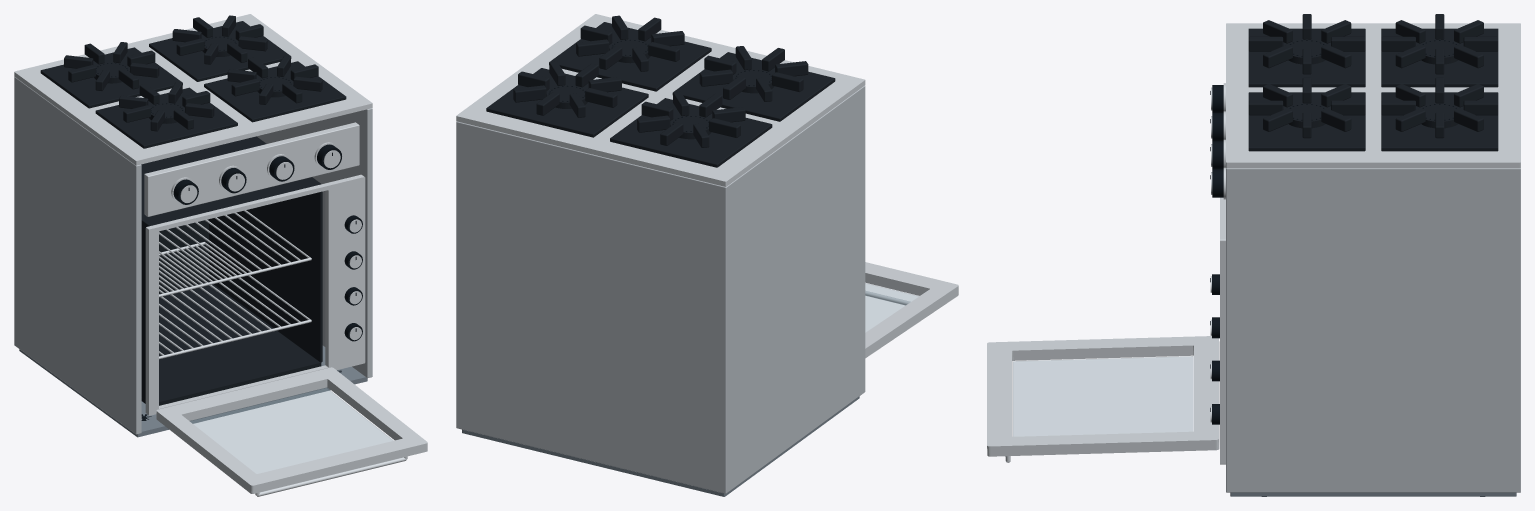
The model's file is cocina-semiindustrial-4-hornillas-horno-electrico-v1.glb.
3 views of the same model, side by side, from view 1: azimuth 30°, elevation 25°; view 2: azimuth 150°, elevation 25°; view 3: azimuth 270°, elevation 25° (orthographic). The views are drawn at different scales.
Visible parts, largest first — view 1: Cavidades_y_fundicion, Acero_pulido, Acero_satinado, Visor_vidrio, Mandos_y_goma, Interior_acero; view 2: Acero_satinado, Cavidades_y_fundicion, Acero_pulido, Interior_acero, Visor_vidrio; view 3: Acero_satinado, Acero_pulido, Cavidades_y_fundicion, Visor_vidrio, Mandos_y_goma, Interior_acero.
Part boxes in pixels (bbox=[...]): Cavidades_y_fundicion: bbox=[40, 15, 356, 405]; Acero_pulido: bbox=[14, 14, 427, 496]; Acero_satinado: bbox=[14, 77, 372, 434]; Visor_vidrio: bbox=[190, 388, 393, 473]; Mandos_y_goma: bbox=[96, 36, 362, 420]; Interior_acero: bbox=[19, 346, 367, 437]; Acero_satinado: bbox=[456, 85, 865, 493]; Cavidades_y_fundicion: bbox=[486, 15, 835, 167]; Acero_pulido: bbox=[456, 14, 958, 358]; Interior_acero: bbox=[462, 396, 859, 496]; Visor_vidrio: bbox=[865, 283, 918, 332]; Acero_satinado: bbox=[1226, 168, 1520, 492]; Acero_pulido: bbox=[987, 23, 1520, 464]; Cavidades_y_fundicion: bbox=[1210, 14, 1498, 411]; Visor_vidrio: bbox=[1013, 356, 1193, 436]; Mandos_y_goma: bbox=[1212, 40, 1484, 496]; Interior_acero: bbox=[1230, 492, 1516, 496].
Bounding box in the file's own units: 0.76 × 0.933 × 1.23.
